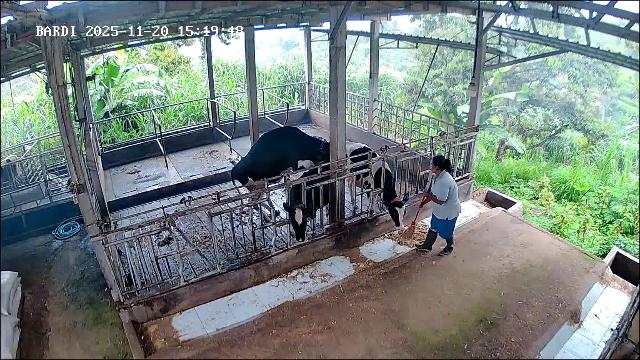mounting: (231, 125, 329, 229)
